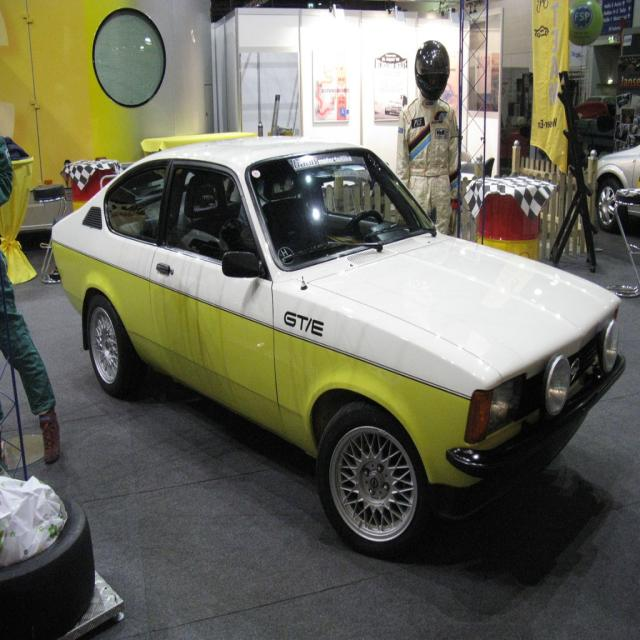car: (47, 129, 624, 558)
